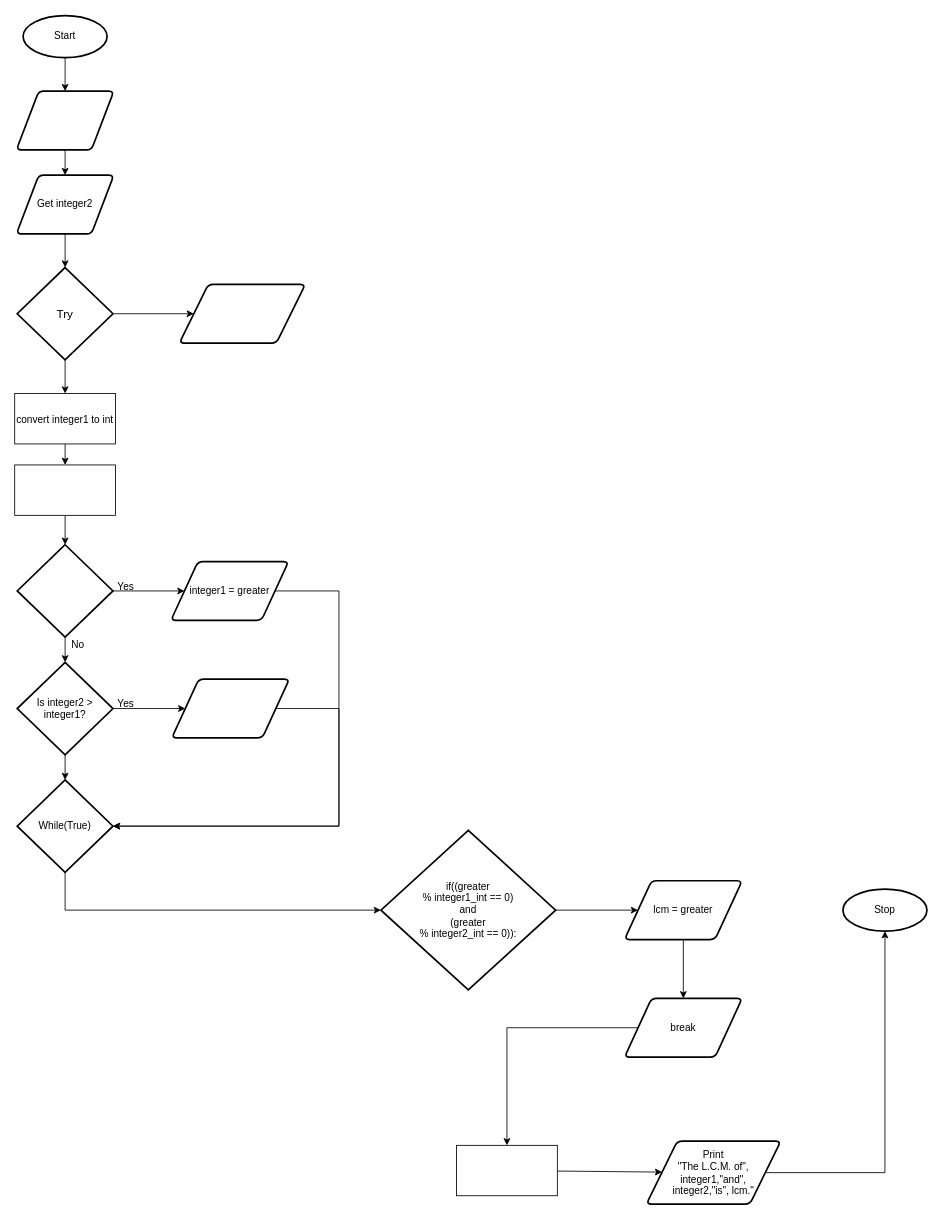
Image size: 942x1219. Some labels were removed from this diagram. Each missing label, with the centre of its shape:
convert integer2 to int: pixel 65 489
Get integer1: pixel 64 120
greater += 1: pixel 506 1170
integer2 = greater: pixel 230 708
Is integer1 > integer2?: pixel 64 590
Print "Please input two valid integers.": pixel 242 313
